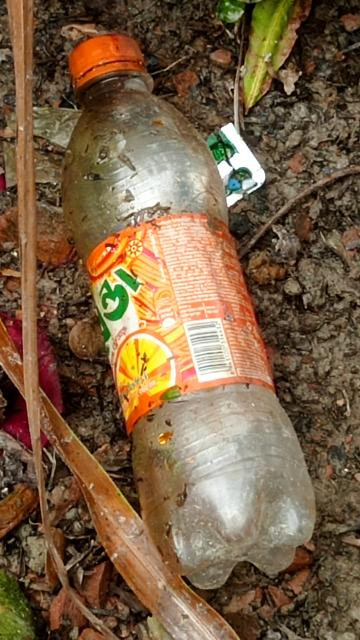bottle: (39, 0, 346, 597)
